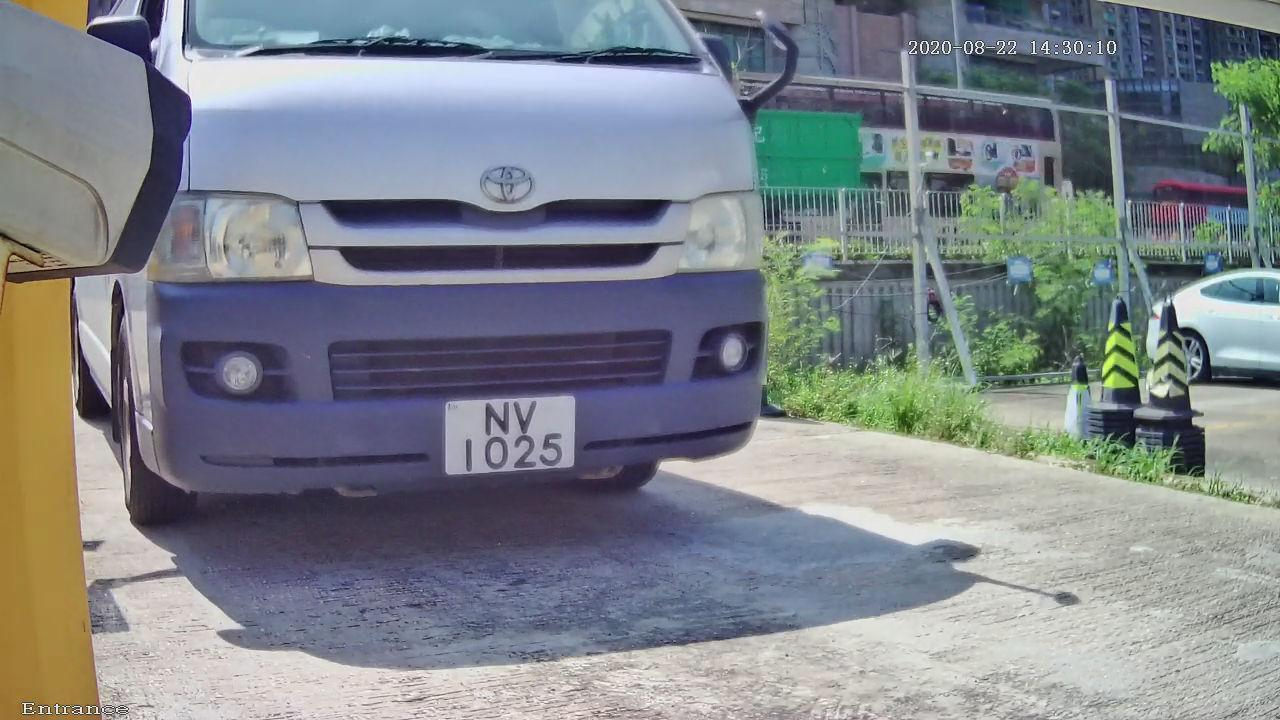License Plate: (435, 389, 589, 483)
